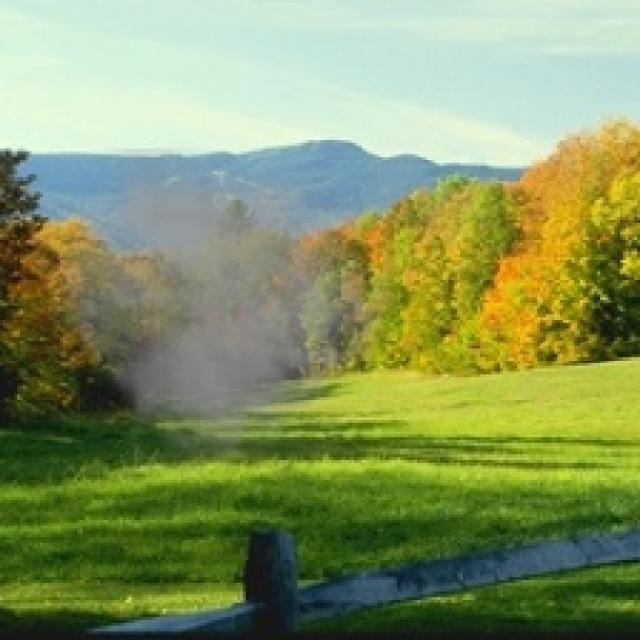smoke: (34, 149, 397, 494)
